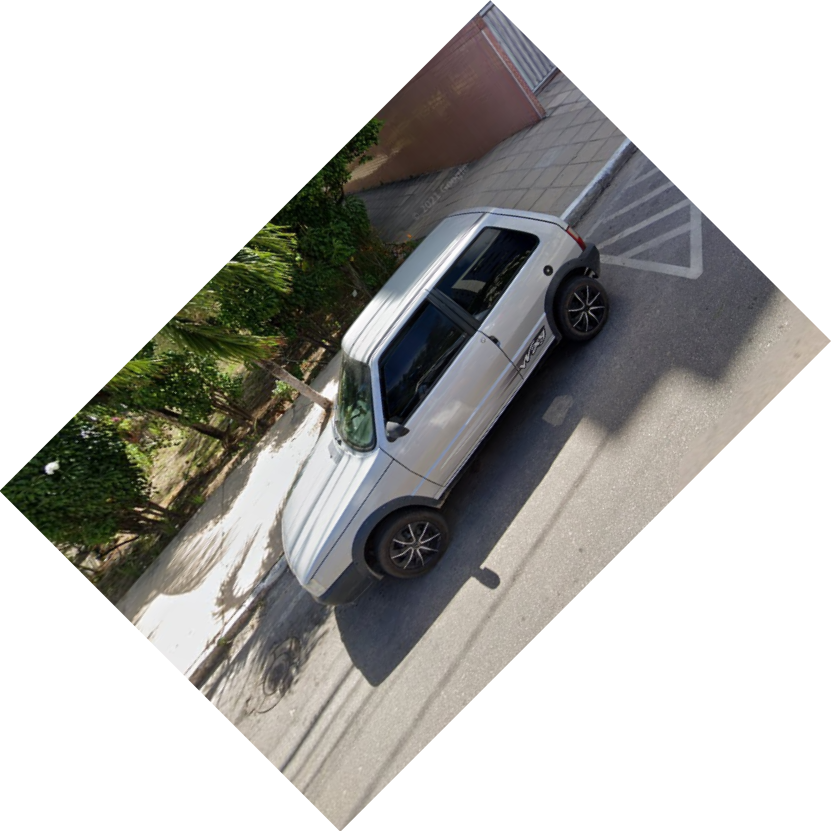car: (278, 201, 615, 615)
